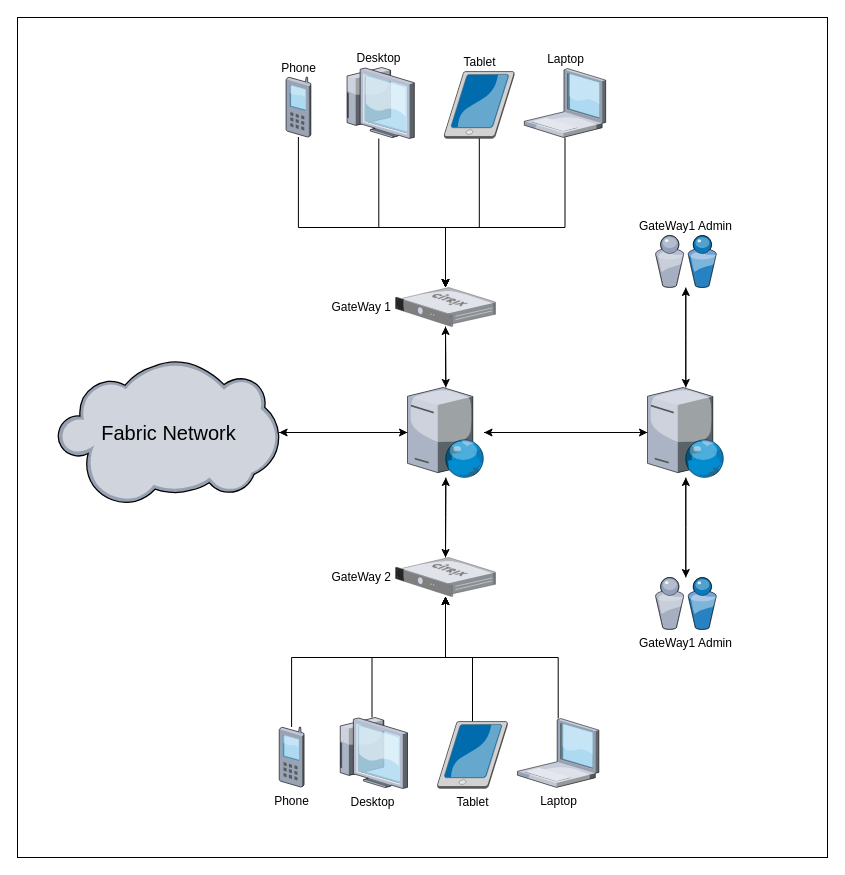
Image size: 845x875. Some labels were removed from this diagram. The shapes that lost their labels are listed below. From the top down, each one's centre as x and y in pixels, then its label:
At pixel 445 432: "Fabric Client & Backend Server".
At pixel 685 432: "Frontend Server".
